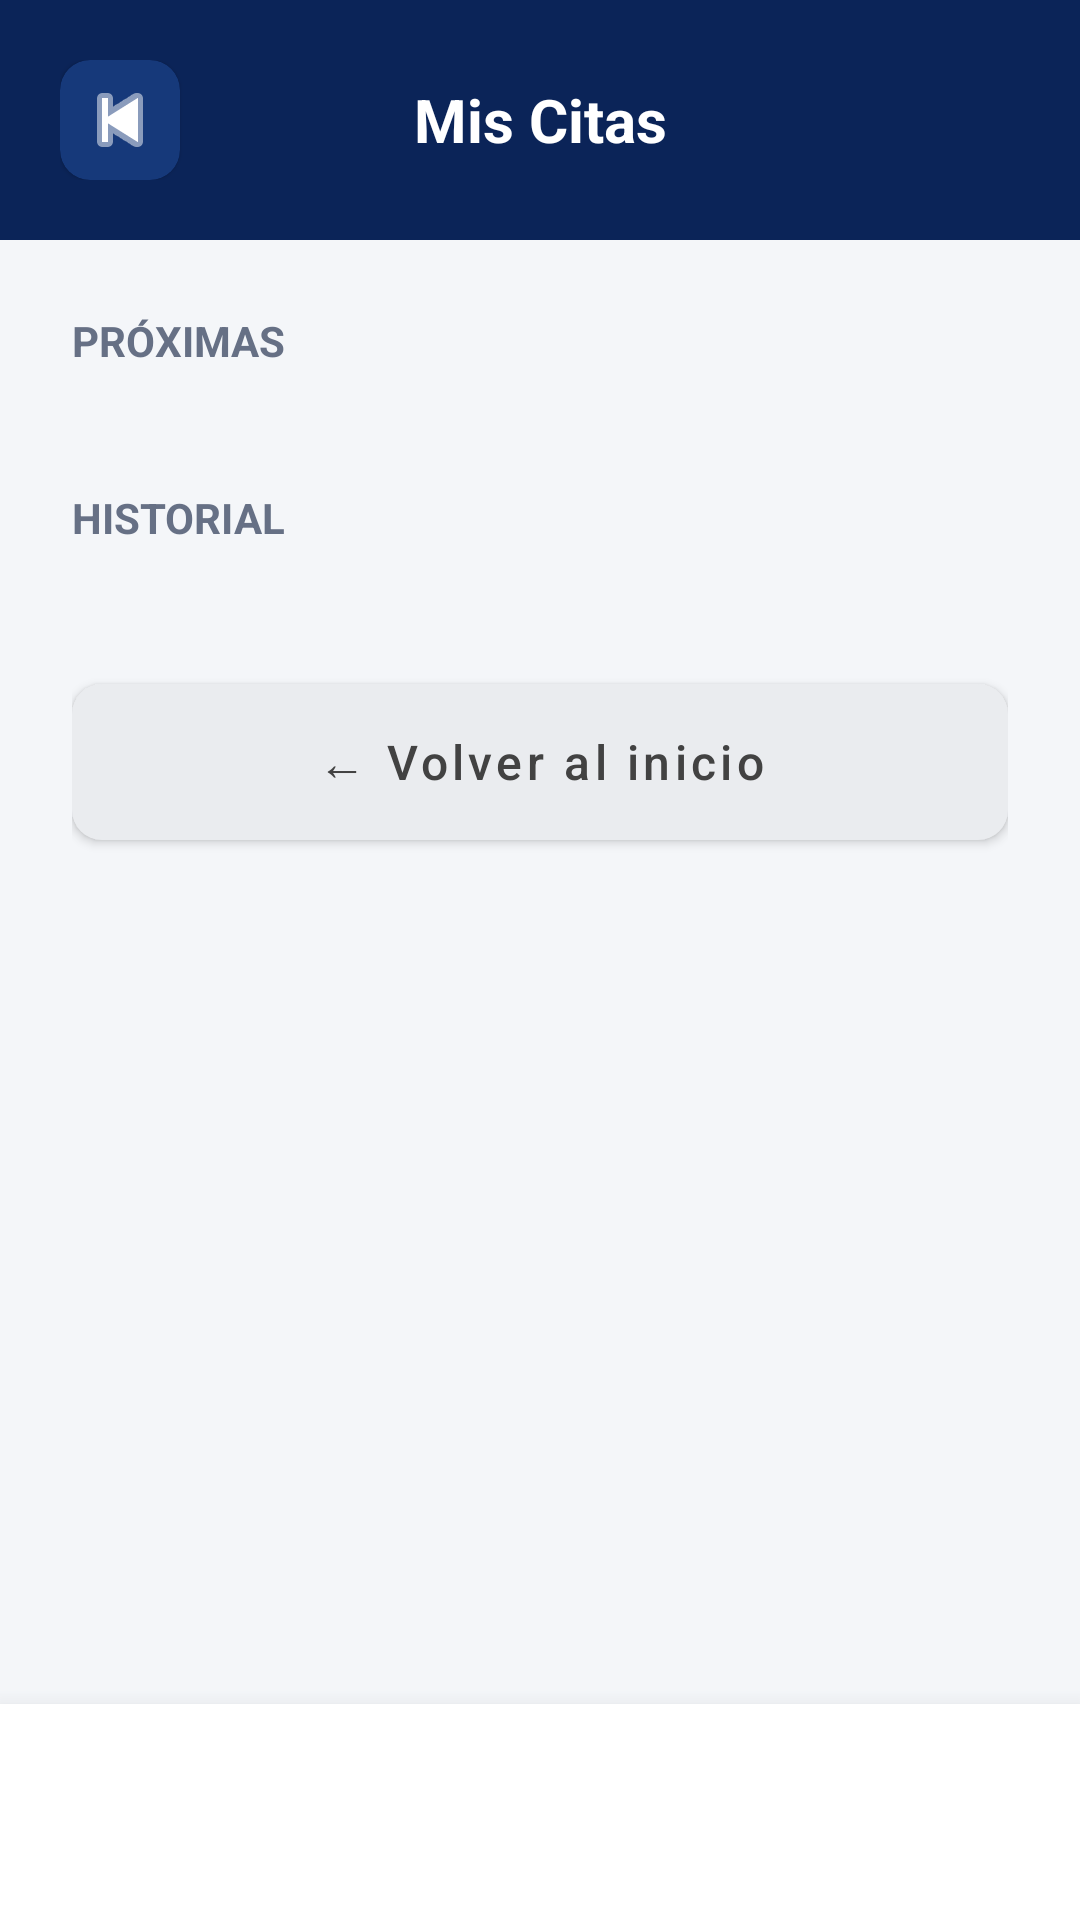

Icons on this 1080w x 1920h Android screen, each with its box as (x1, y1, x2, y2):
previous: (97, 93, 143, 147)
